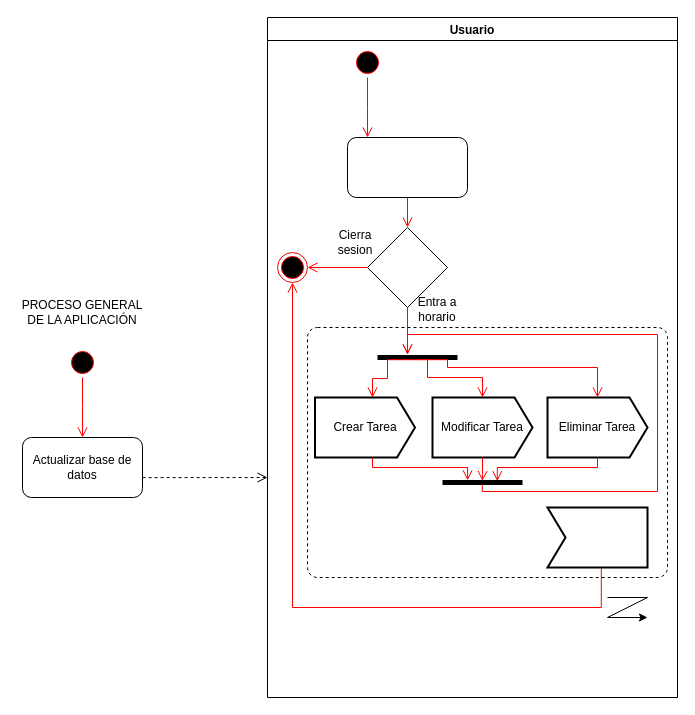
Some shapes in this 695 by 715 pixel diagram are drawn without their labels. The box of each missing label's shape, as (x1, y1, x2, y2) in pixels:
Cerrar Sesion: (546, 506, 648, 568)
Iniciar Sesion: (346, 136, 468, 198)
